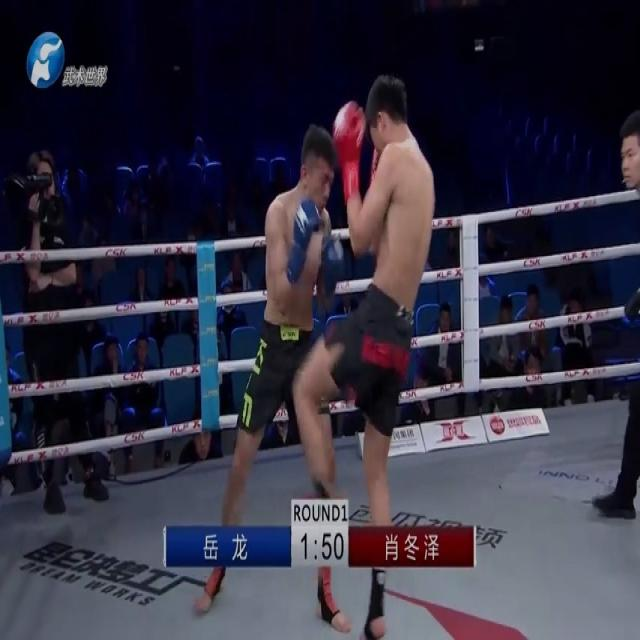fight: (192, 64, 438, 639)
non-fight: (596, 113, 639, 526)
